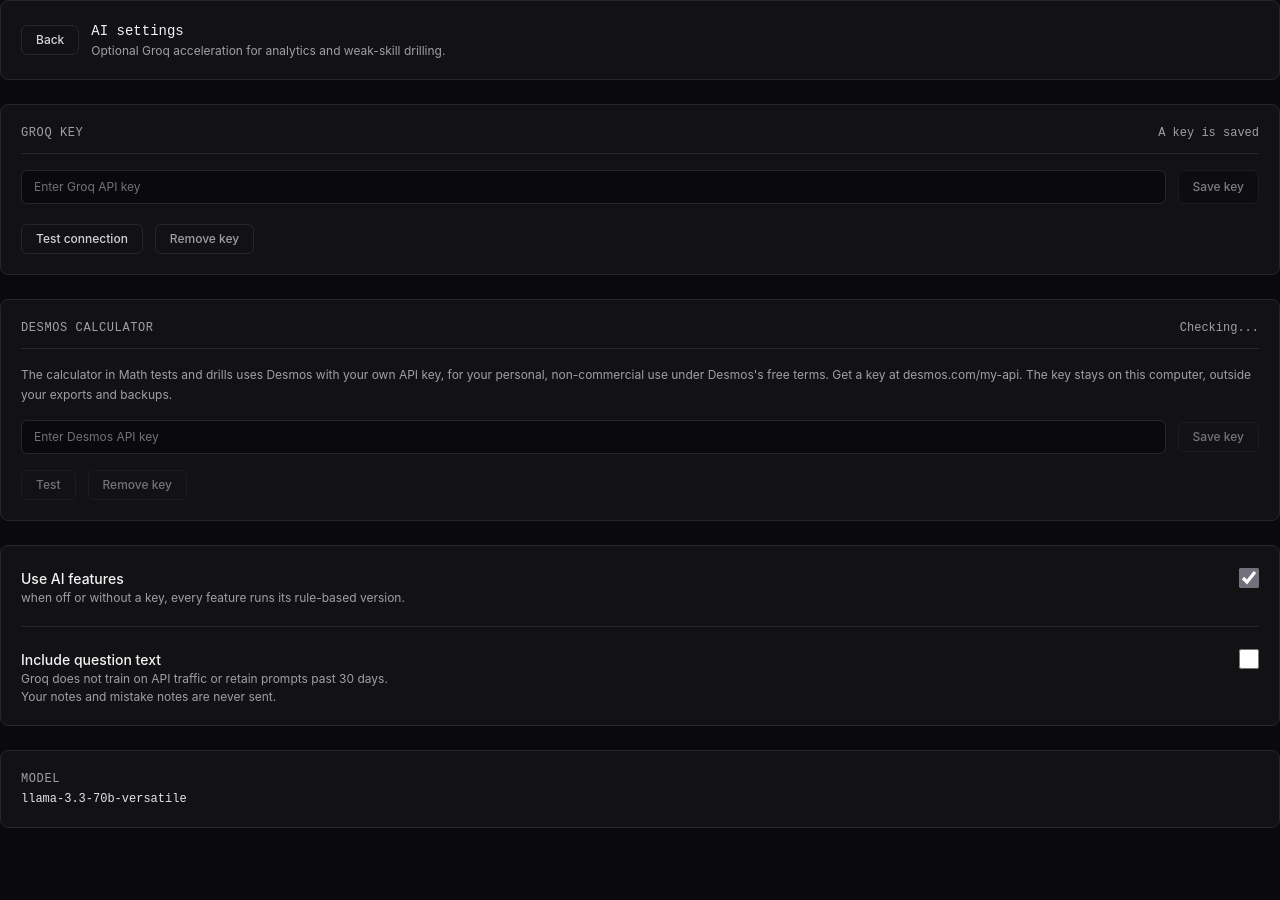
SettingsScreen › tests connection and displays message
Step 1. Click the button "Test connection" → (82, 239), box [21,224,143,254]
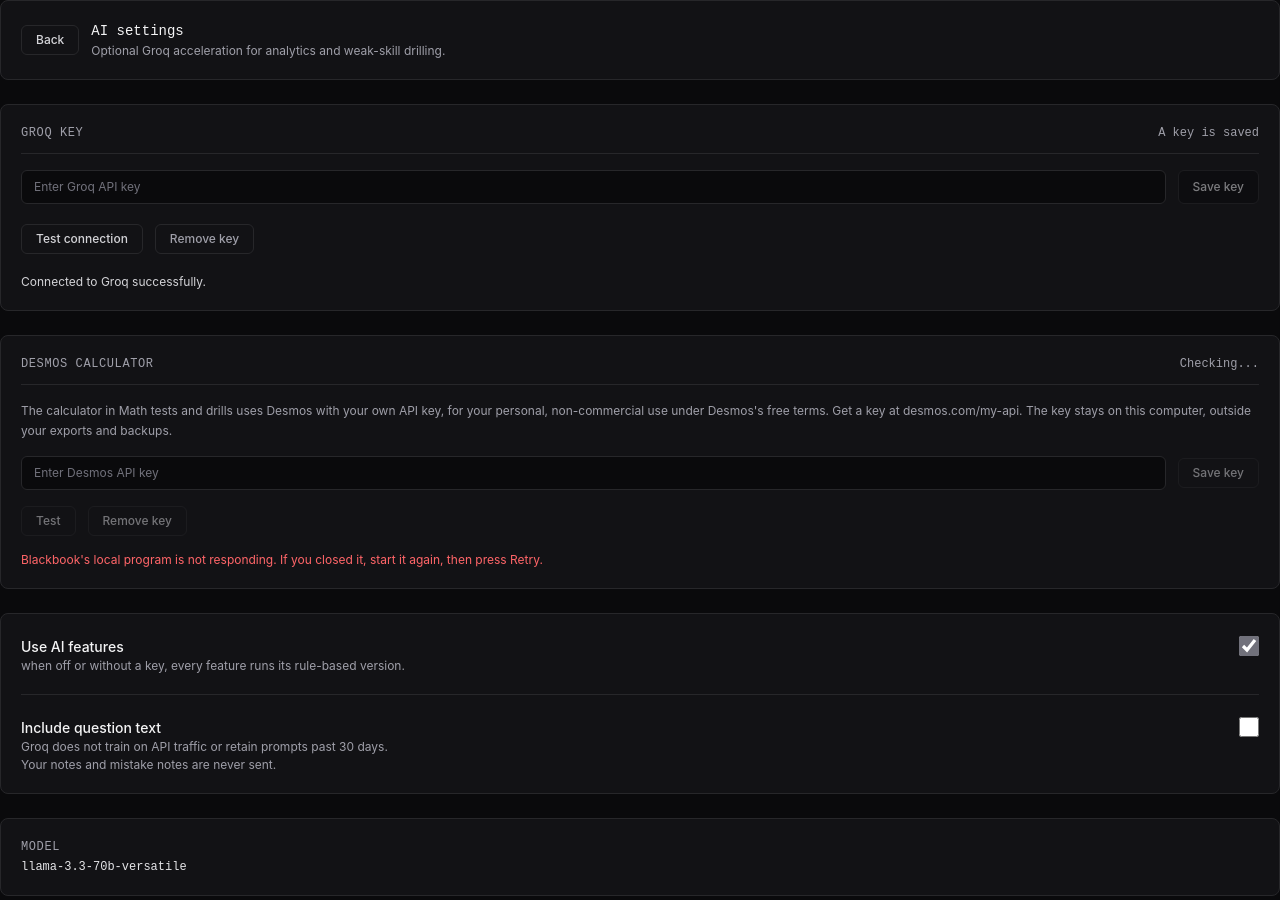
Expected: the text "Connected to Groq successfully." is shown, [21,274,206,289]
